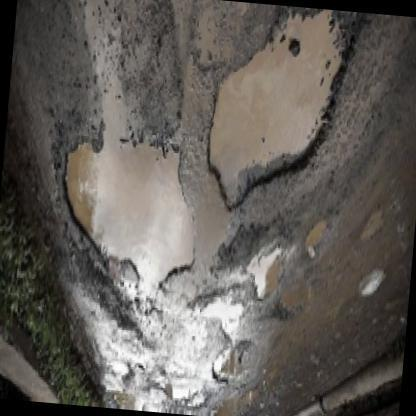pothole: (208, 9, 370, 212), (58, 138, 198, 312), (245, 219, 338, 313), (192, 294, 257, 381), (105, 371, 215, 416), (358, 203, 396, 239)
